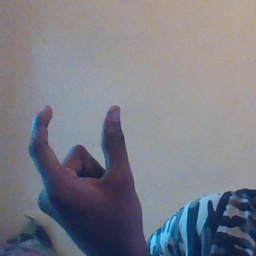U: (23, 96, 148, 243)
